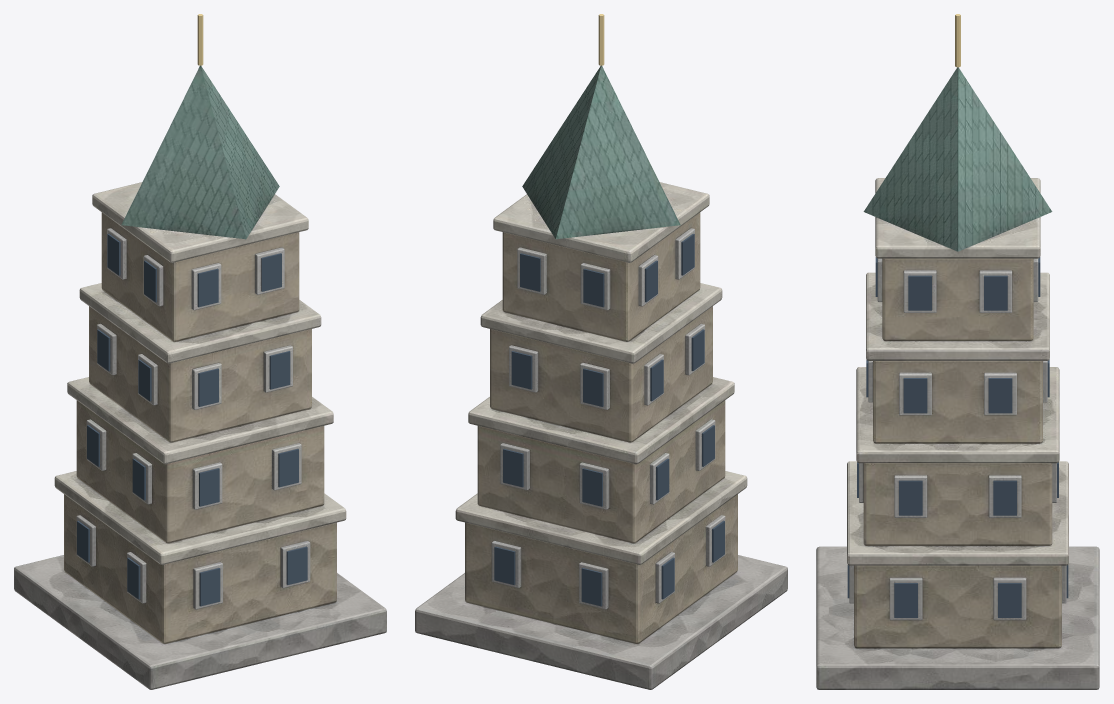
File: jahr_fertig.glb
The picture shows the model from 3 angles, left to right: view 1: azimuth 30°, elevation 25°; view 2: azimuth 150°, elevation 25°; view 3: azimuth 270°, elevation 25°; orthographic projection. The views are drawn at different scales.
Parts seen in each view (by area): view 1: jahr_fertig, jahr_fertig_details; view 2: jahr_fertig, jahr_fertig_details; view 3: jahr_fertig, jahr_fertig_details.
Part boxes in pixels (x1,y1,x2,y2): jahr_fertig: [14, 65, 386, 689]; jahr_fertig_details: [77, 14, 307, 606]; jahr_fertig: [415, 65, 787, 689]; jahr_fertig_details: [494, 14, 724, 606]; jahr_fertig: [816, 67, 1099, 689]; jahr_fertig_details: [847, 14, 1068, 617].
Size of the model in its own units: 0.6 by 1.44 by 0.6.
3 materials, 1 textured.
